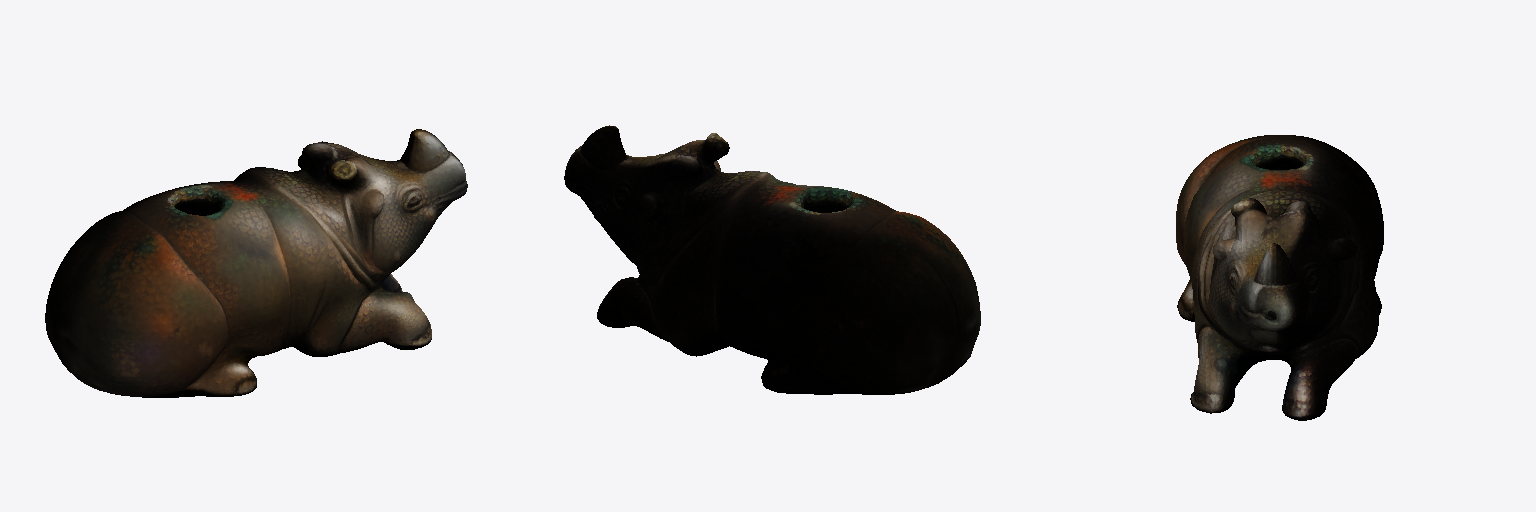
The picture shows the model from 3 angles: view 1: azimuth 30°, elevation 25°; view 2: azimuth 150°, elevation 25°; view 3: azimuth 270°, elevation 25°; orthographic projection.
Visible parts, largest first — view 1: geometry_0; view 2: geometry_0; view 3: geometry_0.
Part boxes in pixels (x1,y1,x2,y2): geometry_0: (45,129,467,397); geometry_0: (564,125,980,394); geometry_0: (1176,135,1383,420).
Size of the model in its own units: 0.9976 by 0.4315 by 0.4529.
Materials: 1 (1 with a texture image).